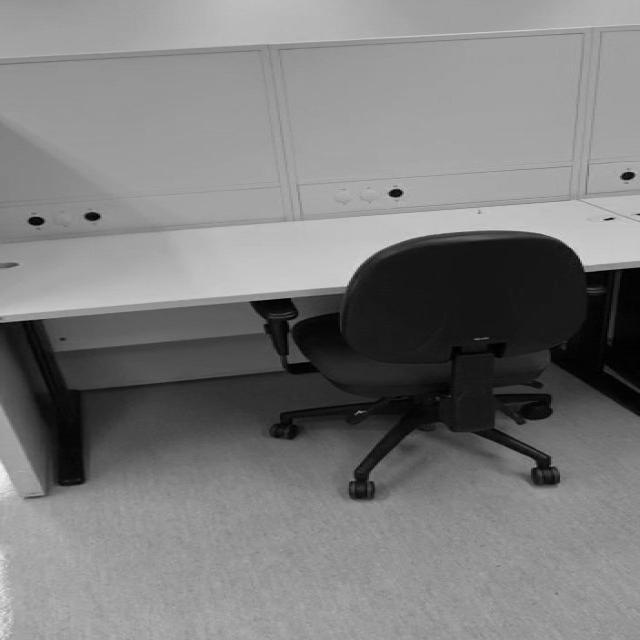chair: (248, 230, 608, 500)
